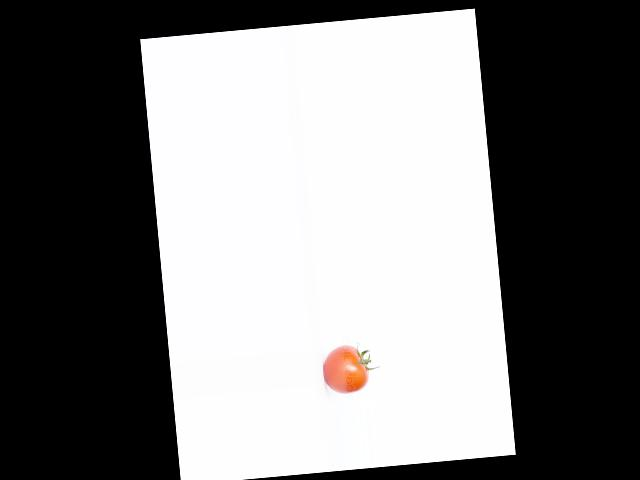tomato: (321, 344, 370, 395)
